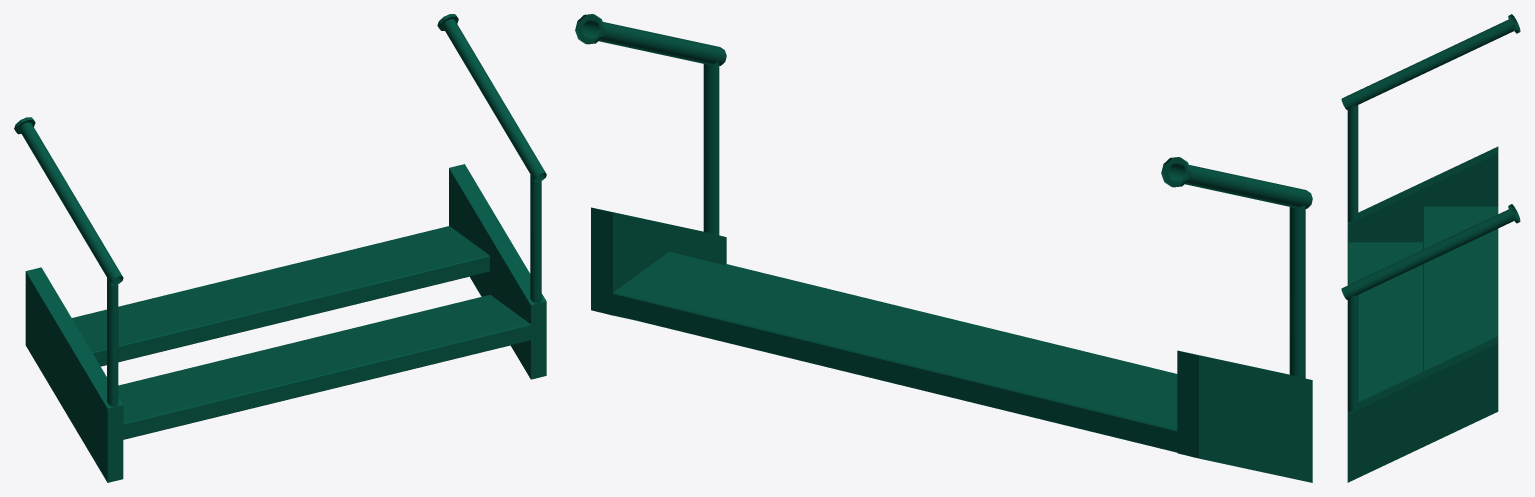
File: stairTop.fbx
3 views of the same model, side by side, from view 1: azimuth 30°, elevation 25°; view 2: azimuth 150°, elevation 25°; view 3: azimuth 270°, elevation 25° (orthographic). The views are drawn at different scales.
Parts seen in each view (by area): view 1: polySurface210, polySurface209, polySurface212, polySurface253, polySurface249, polySurface260, polySurface255, polySurface245; view 2: polySurface209, polySurface212, polySurface253, polySurface260, polySurface249, polySurface245, polySurface255, polySurface210; view 3: polySurface253, polySurface209, polySurface210, polySurface212, polySurface260, polySurface249, polySurface255, polySurface245.
Boxes of the visible parts, box(x1,y1,x2,y2) form: polySurface210: box(118, 294, 530, 439); polySurface209: box(72, 226, 489, 366); polySurface212: box(25, 267, 123, 482); polySurface253: box(449, 164, 546, 379); polySurface249: box(14, 117, 123, 285); polySurface260: box(437, 14, 546, 181); polySurface255: box(530, 173, 541, 303); polySurface245: box(107, 277, 118, 406); polySurface209: box(613, 251, 1177, 452); polySurface212: box(1177, 350, 1312, 482); polySurface253: box(591, 207, 726, 319); polySurface260: box(575, 14, 726, 65); polySurface249: box(1161, 157, 1312, 208); polySurface245: box(1289, 205, 1305, 378); polySurface255: box(703, 62, 719, 235); polySurface210: box(724, 264, 1177, 375); polySurface253: box(1347, 336, 1498, 482); polySurface209: box(1423, 206, 1498, 371); polySurface210: box(1347, 242, 1422, 402); polySurface212: box(1347, 146, 1498, 242); polySurface260: box(1341, 204, 1520, 299); polySurface249: box(1341, 14, 1520, 109); polySurface255: box(1347, 295, 1358, 411); polySurface245: box(1347, 105, 1358, 221).
Size of the model in its own units: 307 by 199 by 117.
